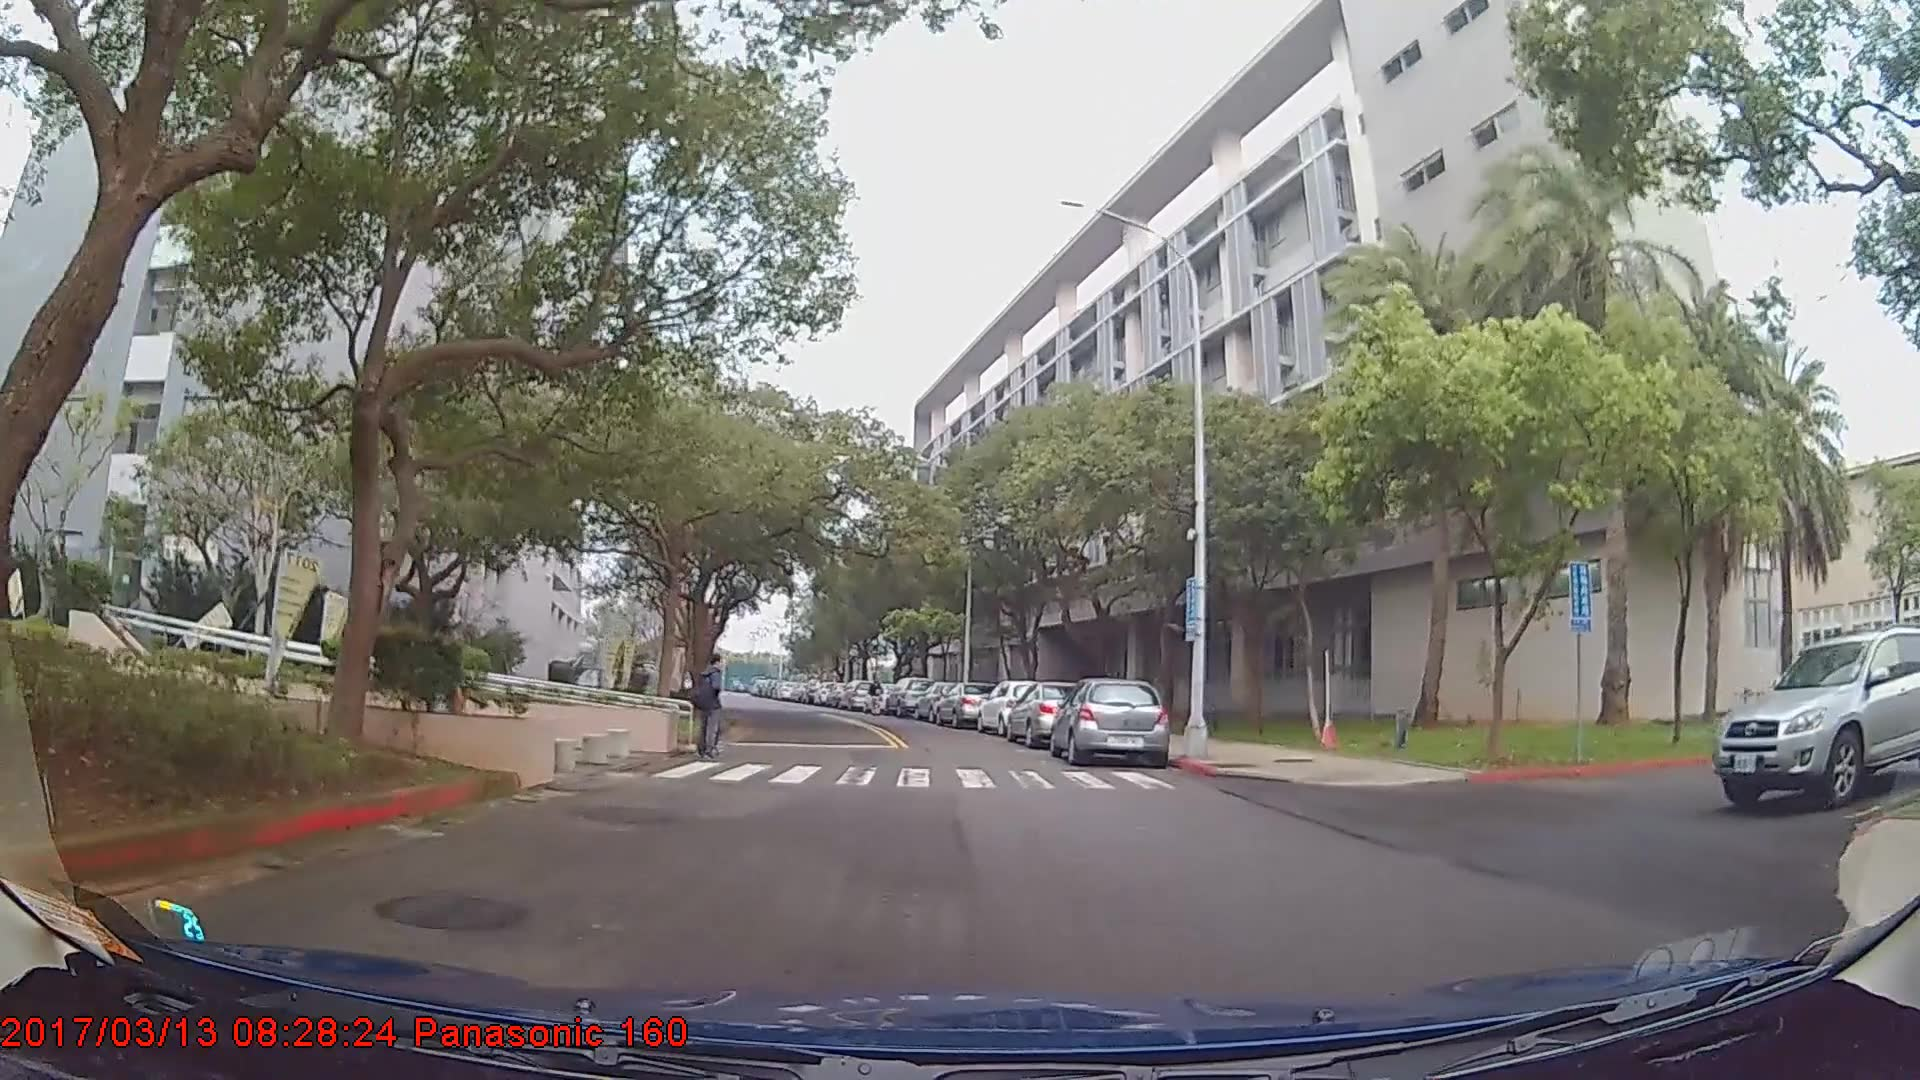pedestrian: (694, 658, 735, 771), (866, 674, 886, 716)
vehicle: (1711, 626, 1920, 811), (1048, 676, 1168, 766), (1004, 681, 1097, 746), (975, 679, 1055, 736), (933, 680, 998, 729), (883, 675, 937, 717)
